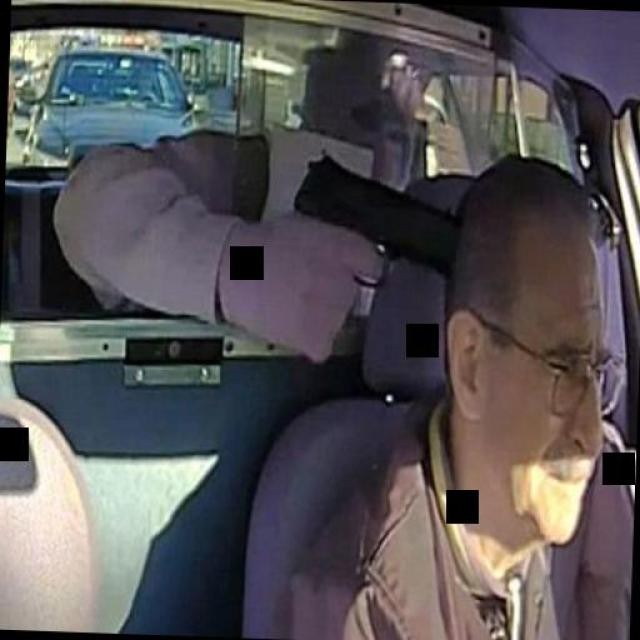gun: (276, 142, 462, 362)
